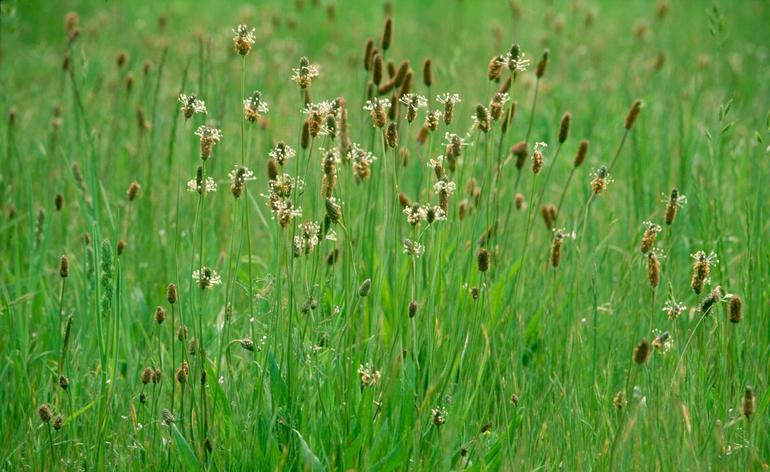buckhorn plantain: (54, 20, 750, 464)
